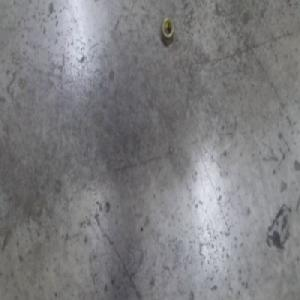Nut: (160, 12, 175, 43)
